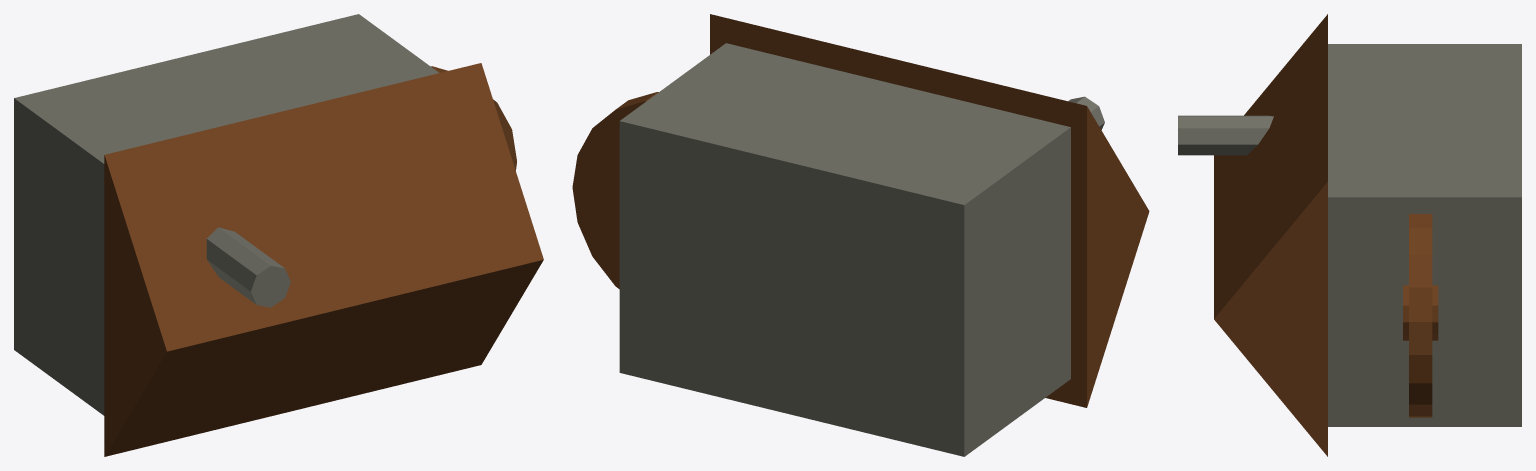
The model's file is SM_ShMillHouse.obj.
3 renders of one model, left to right at view 1: azimuth 30°, elevation 25°; view 2: azimuth 150°, elevation 25°; view 3: azimuth 270°, elevation 25°, orthographic. The views are drawn at different scales.
Size of the model in its own units: 570 by 360 by 408.
